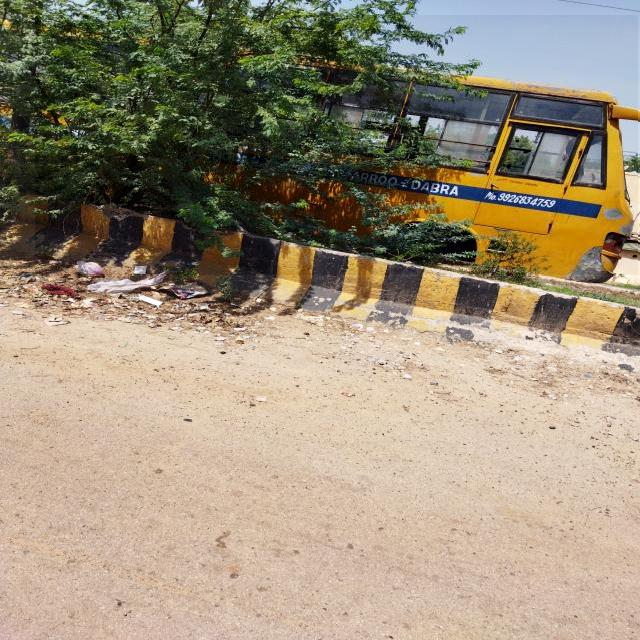Bus: (35, 16, 638, 276)
